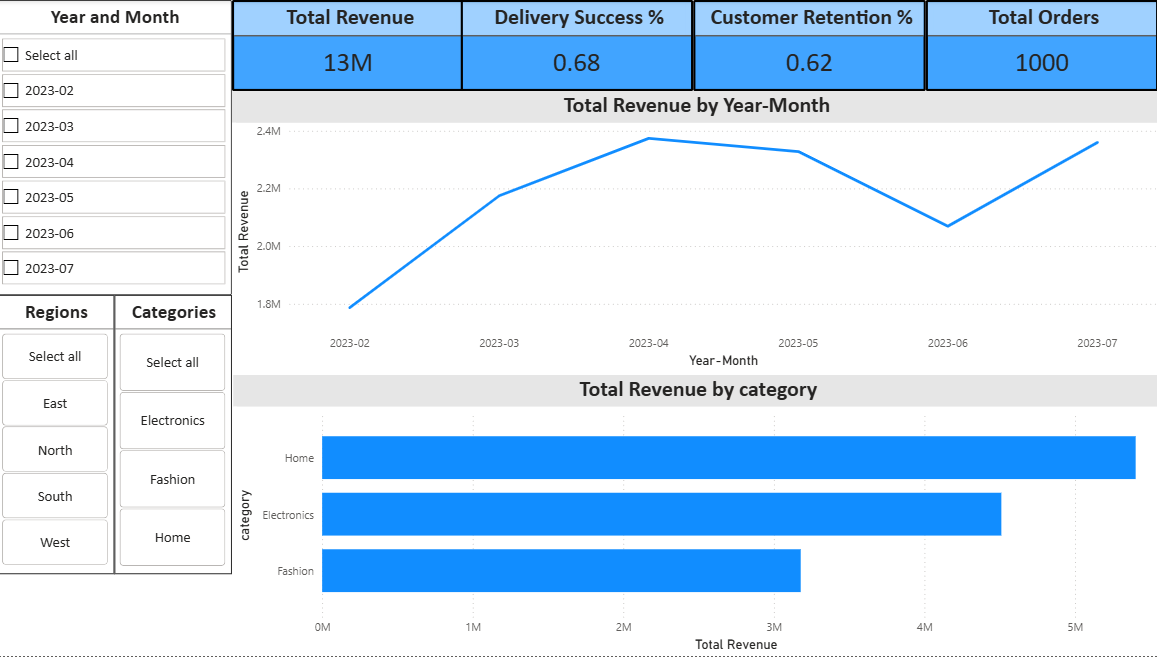

This screenshot's page, from the dashboard's own definition file:
{"tool":"powerbi","page":{"name":"Executive Summary","canvas":[1280,720],"ordinal":1},"visuals":[{"type":"card","fields":{"Values":["orders.Total Revenue"]},"box":[0,100.2,319.7,100.2],"z":0},{"type":"card","fields":{"Values":["orders.Total Orders"]},"box":[319.7,111.1,319.7,100.2],"z":1000},{"type":"card","fields":{"Values":["orders.Delivery Success %"]},"box":[664.2,127.6,319.7,100.2],"z":2000},{"type":"card","fields":{"Values":["orders.Customer Retention %"]},"box":[960.6,127.6,319.7,100.2],"z":3000},{"type":"lineChart","fields":{"Category":["Date Table.Year-Month"],"Y":["orders.Total Revenue"]},"box":[0,227.8,1278.9,242.9],"z":4000},{"type":"barChart","fields":{"Category":["products.category"],"Y":["orders.Total Revenue"]},"box":[0,480.3,1278.9,240.1],"z":5000},{"type":"listSlicer","fields":{"Values":["Date Table.Year-Month"]},"box":[0,0,160.5,100.2],"z":6000},{"type":"advancedSlicerVisual","fields":{"Values":["orders.region"]},"box":[192.1,0,548.9,111.1],"z":7000},{"type":"advancedSlicerVisual","fields":{"Values":["products.category"]},"box":[741,0,537.9,111.1],"z":8000}]}

Visuals, with their boxes in screenshot pixels (x1, y1, x2, y2), scaled from the page's 1280x720 canvas onto the 1157x657 screenshot:
card - orders.Total Revenue: <region>0, 91, 289, 183</region>
card - orders.Total Orders: <region>289, 101, 578, 193</region>
card - orders.Delivery Success %: <region>600, 116, 889, 208</region>
card - orders.Customer Retention %: <region>868, 116, 1156, 208</region>
lineChart - Date Table.Year-Month x orders.Total Revenue: <region>0, 208, 1156, 430</region>
barChart - products.category x orders.Total Revenue: <region>0, 438, 1156, 656</region>
listSlicer - Date Table.Year-Month: <region>0, 0, 145, 91</region>
advancedSlicerVisual - orders.region: <region>174, 0, 670, 101</region>
advancedSlicerVisual - products.category: <region>670, 0, 1156, 101</region>
